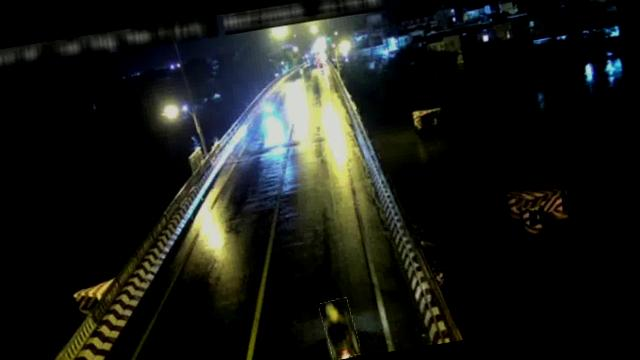Bike: (320, 296, 361, 360)
